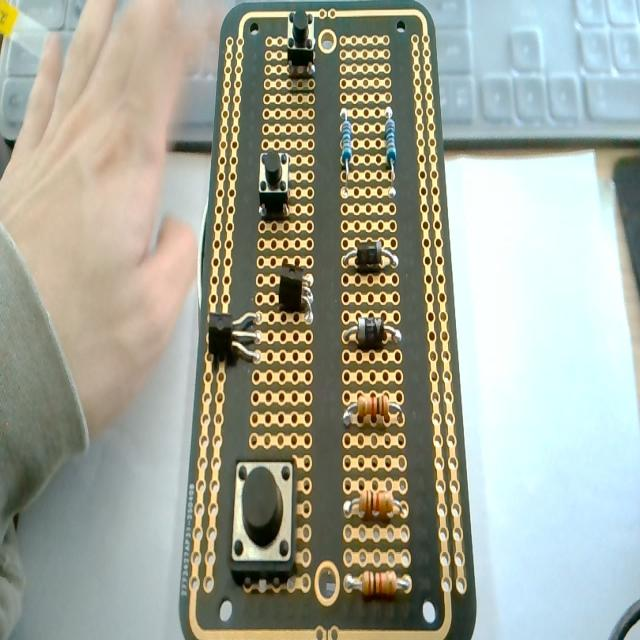diode: (344, 317, 401, 349), (343, 241, 398, 272)
resistor: (345, 487, 404, 519), (344, 398, 403, 429), (347, 570, 409, 598), (340, 108, 352, 175), (384, 110, 396, 170)
switch: (230, 457, 296, 576), (258, 150, 291, 220), (286, 11, 316, 76)
transistor: (207, 310, 263, 363), (274, 264, 316, 322)
